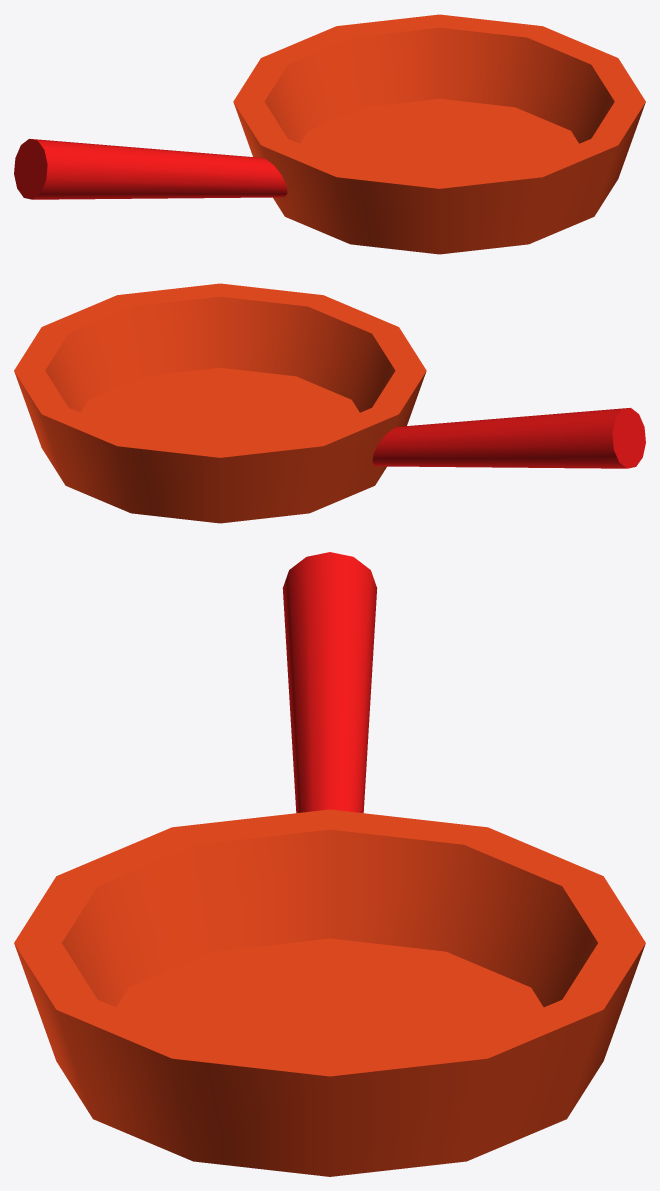
Rendered from pan.FBX.
3 renders of one model, top to bottom at view 1: azimuth 30°, elevation 25°; view 2: azimuth 150°, elevation 25°; view 3: azimuth 270°, elevation 25°, orthographic. The views are drawn at different scales.
Parts seen in each view (by area): view 1: Cylinder014; view 2: Cylinder014; view 3: Cylinder014.
Part boxes in pixels (bbox=[...]): Cylinder014: bbox=[14, 14, 645, 254]; Cylinder014: bbox=[14, 283, 645, 523]; Cylinder014: bbox=[14, 552, 645, 1176].
Bounding box in the file's own units: 2.88 × 0.6316 × 1.73.
